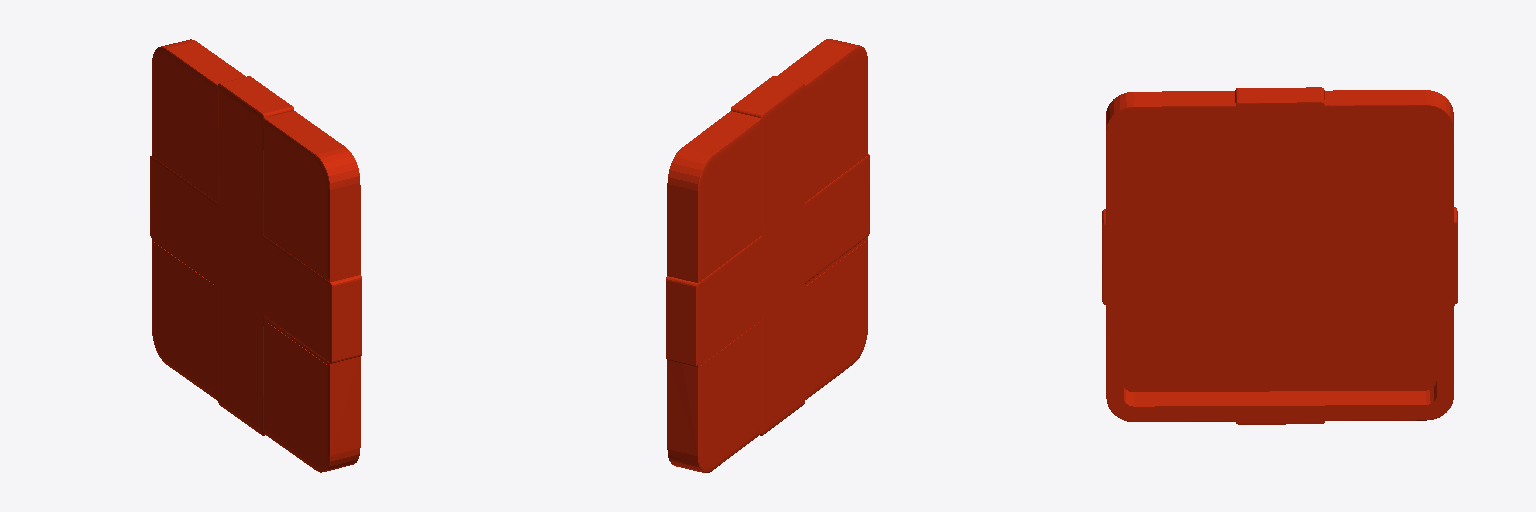
The model's file is platform.obj.
3 renders of one model, left to right at view 1: azimuth 30°, elevation 25°; view 2: azimuth 150°, elevation 25°; view 3: azimuth 270°, elevation 25°, orthographic.
Visible parts, largest first — view 1: Siatka; view 2: Siatka; view 3: Siatka.
Part boxes in pixels (left/top/right/bottom): Siatka: left=150, top=39, right=361, bottom=472; Siatka: left=666, top=39, right=869, bottom=472; Siatka: left=1102, top=87, right=1457, bottom=424.
Size of the model in its own units: 5.88 by 51 by 51.06.